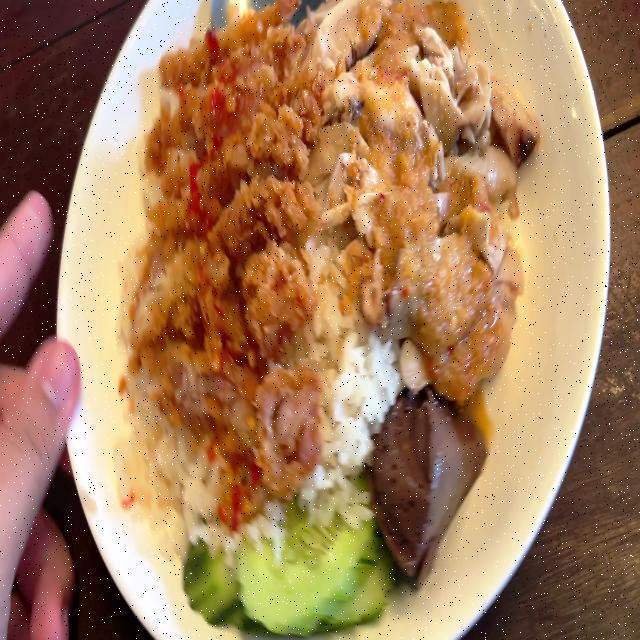boiled_chicken: (314, 0, 516, 374)
boiled_chicken_blood_jelly: (365, 380, 472, 575)
chicken_rice: (117, 0, 510, 618)
cucumber: (175, 480, 384, 627)
fried_chicken: (147, 10, 317, 498)
